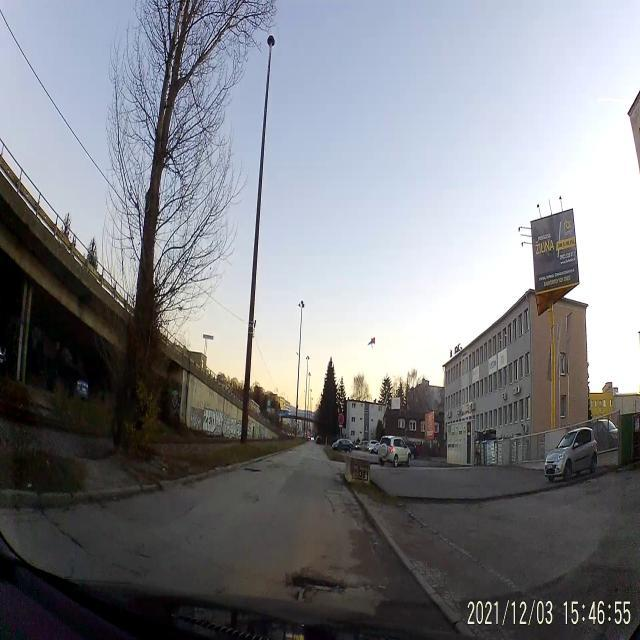Pothole: (286, 567, 351, 605), (241, 464, 264, 476)
